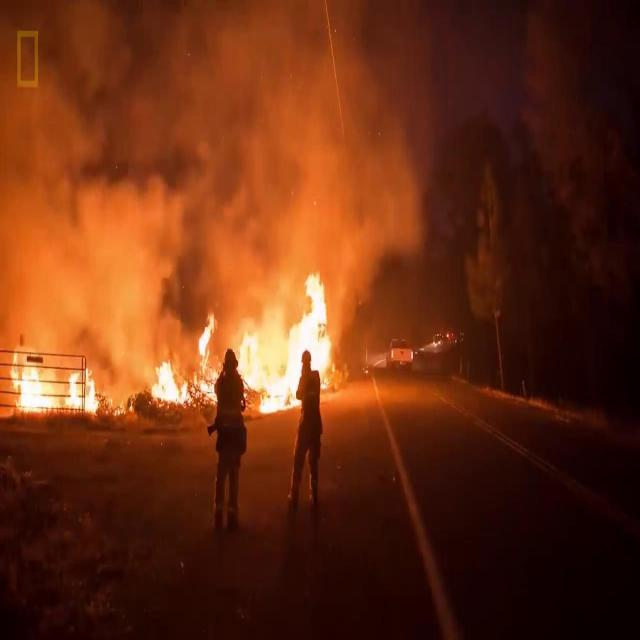fire: (21, 366, 97, 418), (288, 286, 324, 380), (153, 356, 180, 404)
smoke: (170, 4, 394, 278), (2, 85, 158, 343)
